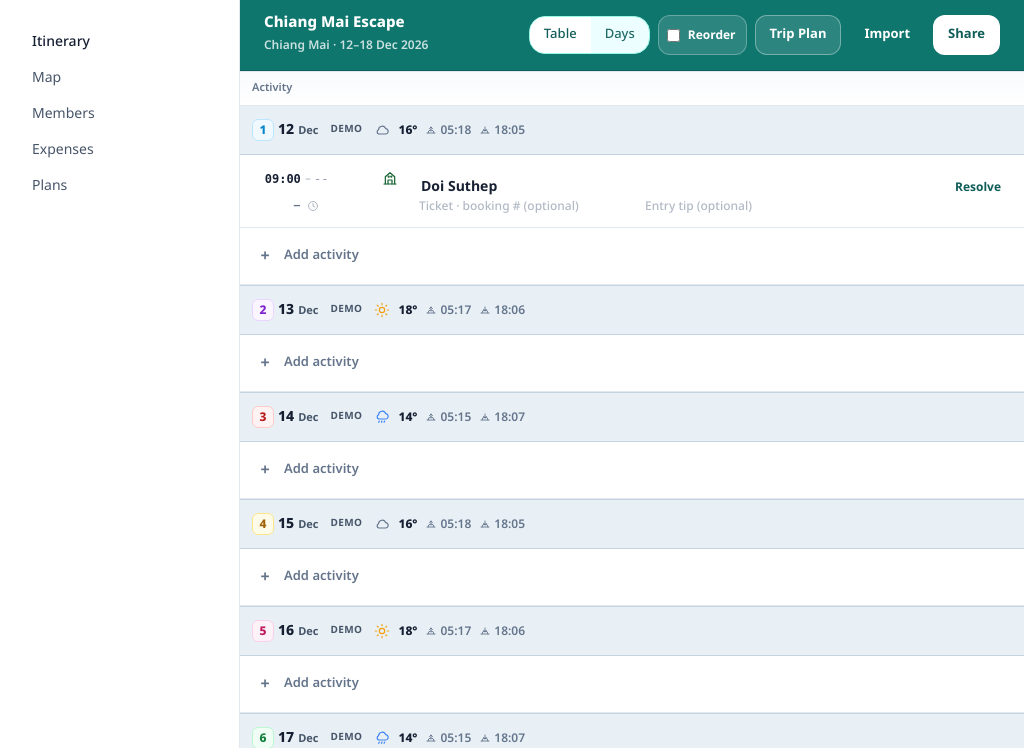
TripWorkspaceShell Main Plan variant filter › when Main Plan is selected and mainTripPlanId ≠ activePlanVariantId, itinerary stops are filtered by the real activePlanVariantId
The image size is (1024, 748).
expect the text "Chiang Mai Escape" is shown: met, box top-left (264, 11), bottom-right (405, 34)
Step 1. Click the button "Trip Plan" → (798,35), box top-left (755, 15), bottom-right (842, 55)
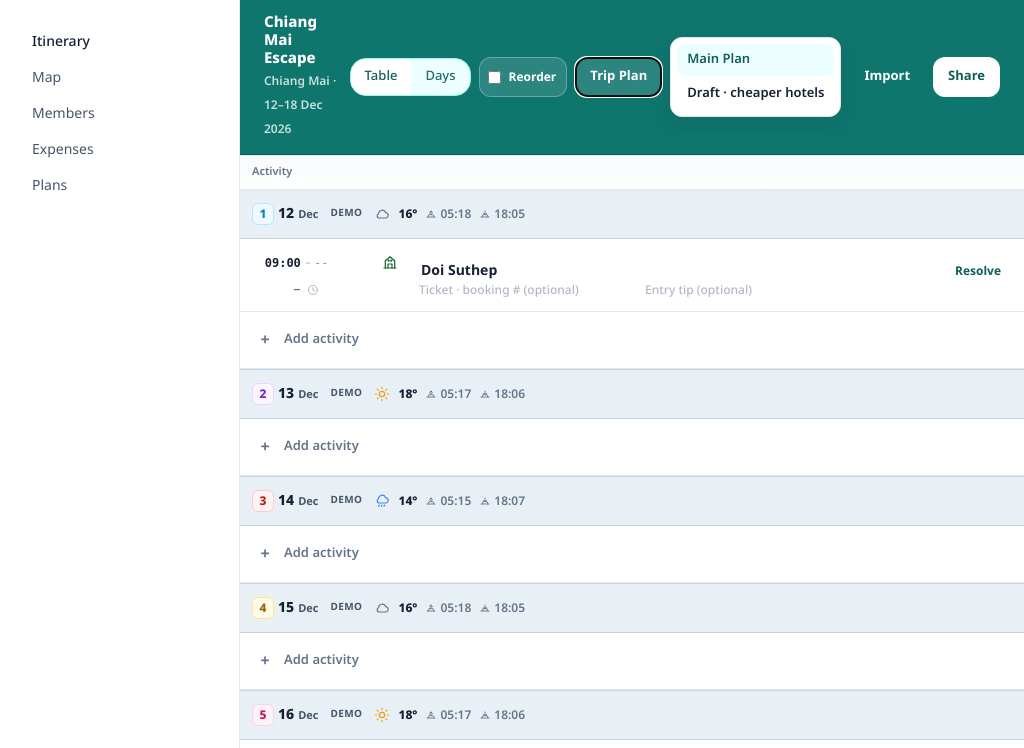
expect the field showing "Doi Suthep" is shown: met, box top-left (412, 256), bottom-right (936, 284)
expect the button "Trip Plan" is expanded: met, box top-left (575, 57), bottom-right (662, 97)
